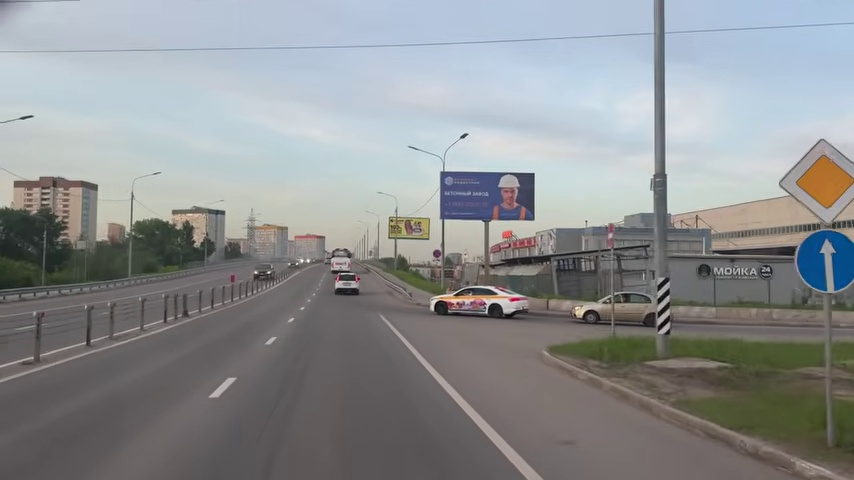apagada: (16, 111, 35, 126), (456, 130, 471, 144), (406, 143, 420, 156), (149, 168, 163, 180)
